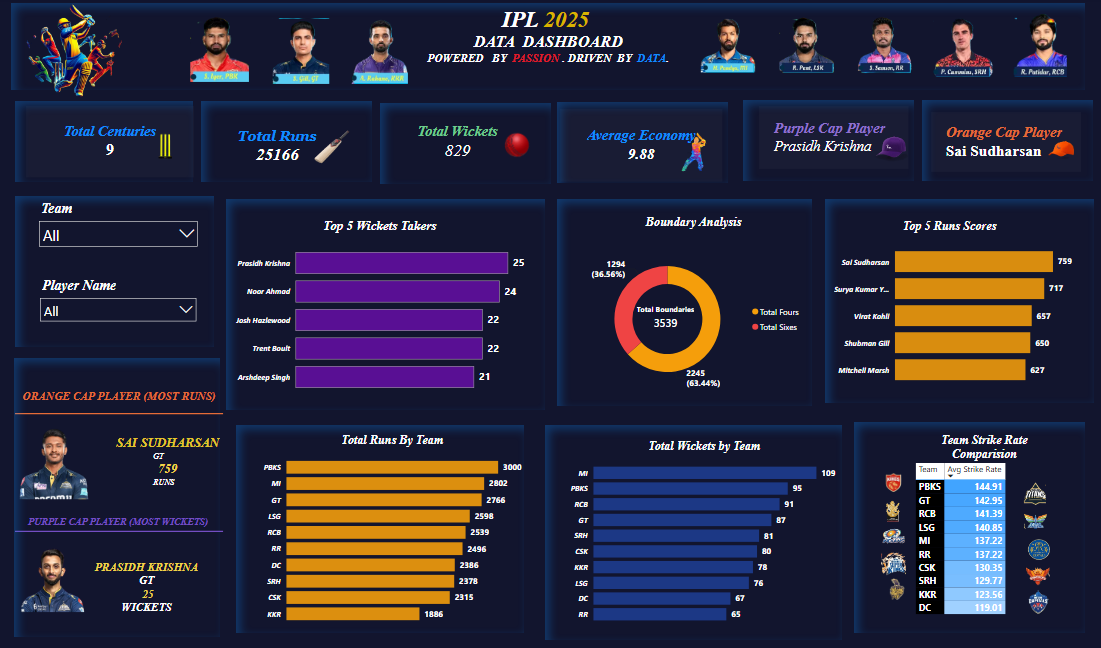

What the dashboard file says about the page in this screenshot:
{"tool":"powerbi","page":{"name":"dashboard","canvas":[1813,1073],"ordinal":2},"visuals":[{"type":"clusteredBarChart","title":"Top 5 Wickets Takers","fields":{"Category":["Bowlers.Player Name"],"Y":["Sum(Bowlers.WKT)"]},"box":[382.8,362.1,484.5,303.4],"z":0},{"type":"clusteredBarChart","title":"Top 5 Runs Scores ","fields":{"Category":["Batsmen.Player Name"],"Y":["Sum(Batsmen.Runs)"]},"box":[1353.4,363.8,412.1,287.9],"z":1000},{"type":"clusteredBarChart","title":"Total Runs By Team","fields":{"Category":["Batsmen.Team"],"Y":["Measure.Total_runs"]},"box":[429.2,714.2,434.1,322.7],"z":2000},{"type":"clusteredBarChart","fields":{"Category":["Bowlers.Team"],"Y":["Measure.Total_Wickets"]},"box":[932.1,724.1,450.5,312.9],"z":3000},{"type":"cardVisual","fields":{"Data":["Measure.Total_runs"]},"box":[339.2,180.4,237.3,127.5],"z":4000},{"type":"cardVisual","fields":{"Data":["Measure.Total Boundaries"]},"box":[1012.1,482.8,162.1,81],"z":5000},{"type":"donutChart","title":"Boundary Analysis","fields":{"Y":["Measure.Total Fours","Measure.Total Sixes"]},"box":[953.4,356.9,372.4,319],"z":6000},{"type":"cardVisual","fields":{"Data":["Measure.Orange Cap Player"]},"box":[1524.1,182.8,256.9,108.6],"z":7000},{"type":"tableEx","title":"Team Strike Rate Comparision","fields":{"Values":["Batsmen.Team","Measure.Avg Strike Rate"]},"box":[1497.3,714.2,237.5,342.4],"z":8000},{"type":"cardVisual","fields":{"Data":["Measure.Purple Cap Player"]},"box":[1241.4,174.1,255.2,113.8],"z":9000},{"type":"cardVisual","fields":{"Data":["Measure.Total Centuries"]},"box":[40.3,173.6,285.8,128],"z":10000},{"type":"cardVisual","fields":{"Data":["Measure.Avg Economy"]},"box":[915.7,178.4,276.5,129.4],"z":11000},{"type":"cardVisual","fields":{"Data":["Measure.Total_Wickets"]},"box":[625.5,172.5,254.9,129.4],"z":12000},{"type":"image","box":[827.5,217.6,45.1,49],"z":13000},{"type":"image","box":[517.6,215.7,58.8,58.8],"z":14000},{"type":"image","box":[1402,205.9,121.6,70.6],"z":15000},{"type":"image","box":[1702,217.6,84.3,54.9],"z":16000},{"type":"image","box":[239.2,219.6,70.6,51],"z":17000},{"type":"image","box":[1078.4,215.7,125.5,74.5],"z":18000},{"type":"textbox","box":[20.7,10.3,1760.3,143.1],"z":19000},{"type":"image","box":[1240.1,31.1,168.7,93.4],"z":20000},{"type":"image","box":[1361.3,32.8,180.2,91.7],"z":21000},{"type":"image","box":[1510.4,32.8,142.5,98.3],"z":22000},{"type":"image","box":[1616.9,27.8,180.2,103.2],"z":23000},{"type":"image","box":[303.1,31.1,119.6,108.1],"z":24000},{"type":"image","box":[545.5,34.4,158.9,108.1],"z":25000},{"type":"image","box":[1130.3,31.1,131.1,93.4],"z":26000},{"type":"image","box":[422.6,34.4,147.4,108.1],"z":27000},{"type":"image","box":[1434.5,777.6,63.8,34.5],"z":28000},{"type":"image","box":[1668.3,793.3,61.7,40],"z":29000},{"type":"image","box":[1444.9,824.4,42.3,35.9],"z":30000},{"type":"image","box":[1670.5,842.3,56.4,29.5],"z":31000},{"type":"image","box":[1439.7,866.7,52.6,38.5],"z":32000},{"type":"image","box":[1670.5,885.9,69.2,37.2],"z":33000},{"type":"image","box":[1680.8,928.2,43.6,35.9],"z":34000},{"type":"image","box":[1446.2,905.1,41,46.2],"z":35000},{"type":"image","box":[1452.6,951.3,39.7,37.2],"z":36000},{"type":"image","box":[1660.3,970.5,91,42.3],"z":37000},{"type":"slicer","fields":{"Values":["Batsmen.Team"]},"box":[57.1,328.6,279.6,120.4],"z":38000},{"type":"slicer","fields":{"Values":["Batsmen.Player Name"]},"box":[59.2,455.1,275.5,122.4],"z":39000},{"type":"shape","box":[27.1,532.9,341.4,300],"z":40000},{"type":"textbox","box":[25.7,828.6,341.4,55.7],"z":41000},{"type":"image","box":[12.9,705.7,155.7,117.1],"z":42000},{"type":"textbox","box":[27.1,621.4,341.4,55.7],"z":43000},{"type":"shape","box":[27.1,794.3,341.4,161.4],"z":44000},{"type":"image","box":[25.7,901.4,128.6,107.1],"z":45000},{"type":"textbox","box":[168.6,695.7,218.6,132.9],"z":46000},{"type":"textbox","box":[100,901.4,287.1,147.1],"z":47000},{"type":"image","box":[12.1,0,231,177.6],"z":48000},{"type":"shape","box":[373.5,330.9,522.6,345.7],"z":49000},{"type":"shape","box":[915.7,330.9,417.7,339.1],"z":50000},{"type":"shape","box":[1355.2,331,439.7,334.5],"z":51000},{"type":"shape","box":[389.7,701.7,470.7,339.7],"z":52000},{"type":"shape","box":[896.6,701.7,486.2,351.7],"z":53000},{"type":"shape","box":[1401.7,696.6,379.3,344.8],"z":54000},{"type":"shape","box":[27.8,170.4,291.6,132.7],"z":55000},{"type":"shape","box":[332.5,170.4,280.1,132.7],"z":56000},{"type":"shape","box":[625.8,173.6,280.1,132.7],"z":57000},{"type":"shape","box":[915.7,172,280.1,132.7],"z":58000},{"type":"shape","box":[1220.4,168.7,280.1,132.7],"z":59000},{"type":"shape","box":[1513.7,168.7,280.1,132.7],"z":60000},{"type":"shape","box":[27.8,326,326,247.4],"z":61000},{"type":"shape","box":[25.9,591.4,337.9,456.9],"z":62000}]}

Visuals, with their boxes in screenshot pixels (x1, y1, x2, y2), scaled from the page's 1813x1073 canvas onto the 1101x648 screenshot:
"Top 5 Wickets Takers" clusteredBarChart: rect(232, 219, 527, 402)
"Top 5 Runs Scores " clusteredBarChart: rect(822, 220, 1072, 394)
"Total Runs By Team" clusteredBarChart: rect(261, 431, 524, 626)
clusteredBarChart - Bowlers.Team x Measure.Total_Wickets: rect(566, 437, 840, 626)
cardVisual - Measure.Total_runs: rect(206, 109, 350, 186)
cardVisual - Measure.Total Boundaries: rect(615, 292, 713, 340)
"Boundary Analysis" donutChart: rect(579, 216, 805, 408)
cardVisual - Measure.Orange Cap Player: rect(926, 110, 1082, 176)
"Team Strike Rate Comparision" tableEx: rect(909, 431, 1054, 638)
cardVisual - Measure.Purple Cap Player: rect(754, 105, 909, 174)
cardVisual - Measure.Total Centuries: rect(24, 105, 198, 182)
cardVisual - Measure.Avg Economy: rect(556, 108, 724, 186)
cardVisual - Measure.Total_Wickets: rect(380, 104, 535, 182)
image: rect(503, 131, 530, 161)
image: rect(314, 130, 350, 166)
image: rect(851, 124, 925, 167)
image: rect(1034, 131, 1085, 165)
image: rect(145, 133, 188, 163)
image: rect(655, 130, 731, 175)
textbox: rect(13, 6, 1082, 93)
image: rect(753, 19, 856, 75)
image: rect(827, 20, 936, 75)
image: rect(917, 20, 1004, 79)
image: rect(982, 17, 1091, 79)
image: rect(184, 19, 257, 84)
image: rect(331, 21, 428, 86)
image: rect(686, 19, 766, 75)
image: rect(257, 21, 346, 86)
image: rect(871, 470, 910, 490)
image: rect(1013, 479, 1051, 503)
image: rect(877, 498, 903, 520)
image: rect(1014, 509, 1049, 526)
image: rect(874, 523, 906, 547)
image: rect(1014, 535, 1056, 557)
image: rect(1021, 561, 1047, 582)
image: rect(878, 547, 903, 575)
image: rect(882, 575, 906, 597)
image: rect(1008, 586, 1064, 612)
slicer - Batsmen.Team: rect(35, 198, 204, 271)
slicer - Batsmen.Player Name: rect(36, 275, 203, 349)
shape: rect(16, 322, 224, 503)
textbox: rect(16, 500, 223, 534)
image: rect(8, 426, 102, 497)
textbox: rect(16, 375, 224, 409)
shape: rect(16, 480, 224, 577)
image: rect(16, 544, 94, 609)
textbox: rect(102, 420, 235, 500)
textbox: rect(61, 544, 235, 633)
image: rect(7, 0, 148, 107)
shape: rect(227, 200, 544, 409)
shape: rect(556, 200, 810, 405)
shape: rect(823, 200, 1090, 402)
shape: rect(237, 424, 523, 629)
shape: rect(544, 424, 840, 636)
shape: rect(851, 421, 1082, 629)
shape: rect(17, 103, 194, 183)
shape: rect(202, 103, 372, 183)
shape: rect(380, 105, 550, 185)
shape: rect(556, 104, 726, 184)
shape: rect(741, 102, 911, 182)
shape: rect(919, 102, 1089, 182)
shape: rect(17, 197, 215, 346)
shape: rect(16, 357, 221, 633)
